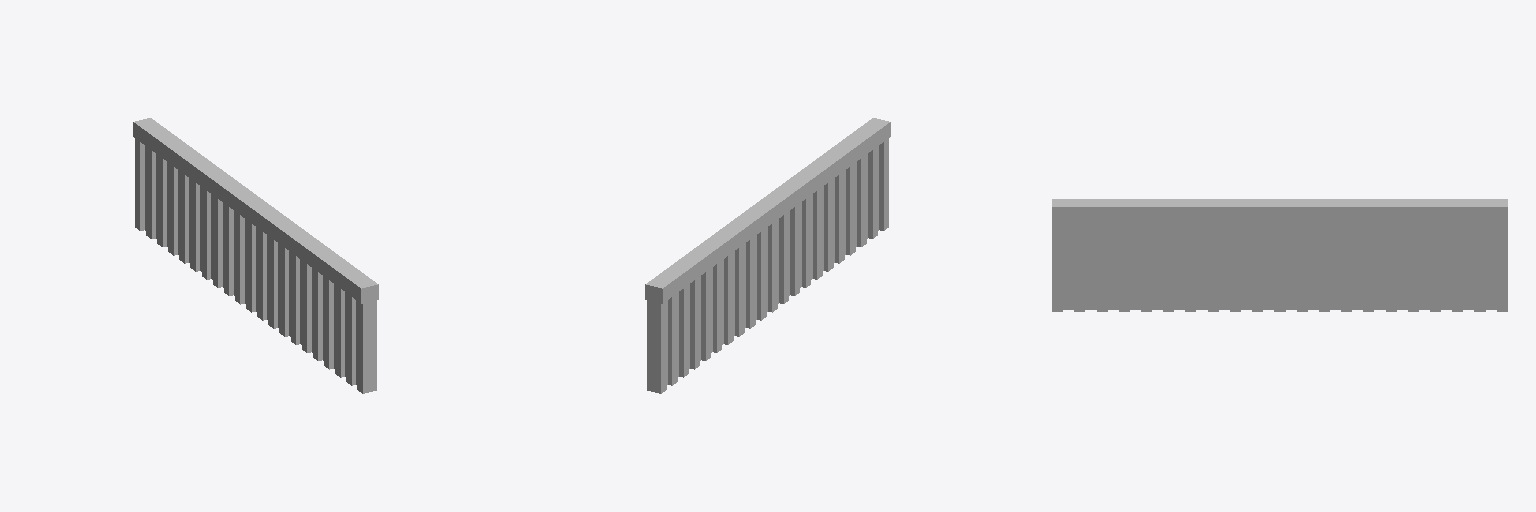
File: fence.obj
The picture shows the model from 3 angles: view 1: azimuth 30°, elevation 25°; view 2: azimuth 150°, elevation 25°; view 3: azimuth 270°, elevation 25°; orthographic projection.
Visible parts, largest first — view 1: Cube.010_Cube.012; view 2: Cube.010_Cube.012; view 3: Cube.010_Cube.012.
Part boxes in pixels (x1,y1,x2,y2): Cube.010_Cube.012: (133,118,378,393); Cube.010_Cube.012: (645,118,890,393); Cube.010_Cube.012: (1052,199,1507,311).
Bounding box in the file's own units: 0.12 × 0.7 × 2.74.